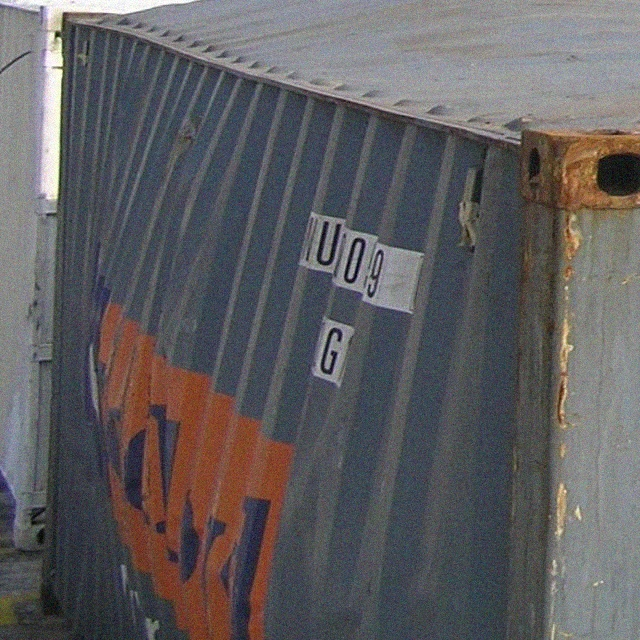Dent: (185, 320, 312, 640)
